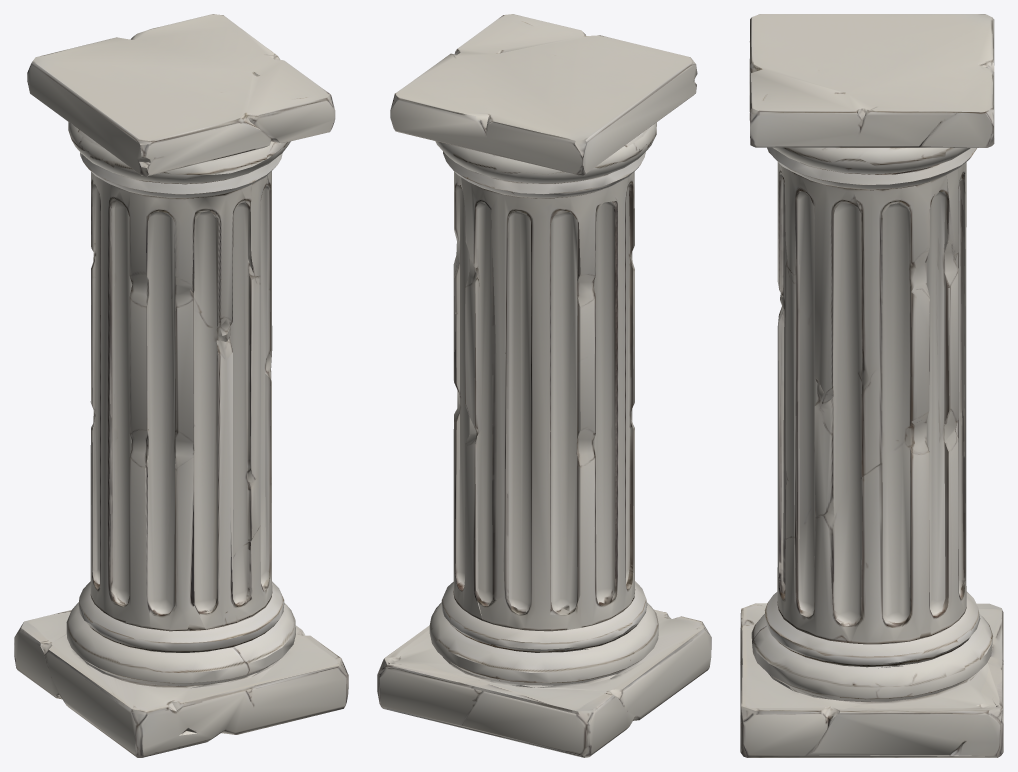
File: column.glb
3 views of the same model, side by side, from view 1: azimuth 30°, elevation 25°; view 2: azimuth 150°, elevation 25°; view 3: azimuth 270°, elevation 25° (orthographic). The views are drawn at different scales.
Parts seen in each view (by area): view 1: column; view 2: column; view 3: column.
Part boxes in pixels (x1,y1,x2,y2): column: [14, 14, 348, 757]; column: [377, 14, 711, 757]; column: [740, 14, 1003, 757].
Size of the model in its own units: 2.19 by 6 by 2.23.
Materials: 1 (1 with a texture image).
